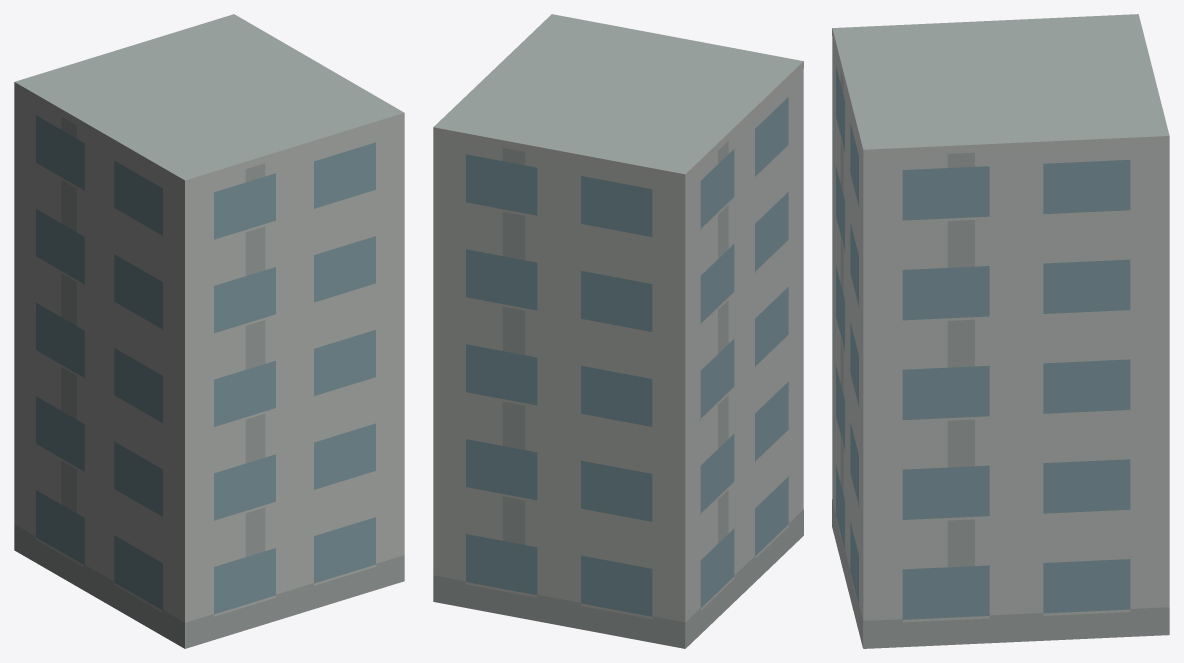
File: residential-2e648b3e-b197-40e9-b336-f9eecdec87f0.glb
The picture shows the model from 3 angles, left to right: view 1: azimuth 30°, elevation 25°; view 2: azimuth 150°, elevation 25°; view 3: azimuth 270°, elevation 25°; orthographic projection. The views are drawn at different scales.
Parts seen in each view (by area): view 1: residential-2e648b3e-b197-40e9-b336-f9eecdec87f0.tmp; view 2: residential-2e648b3e-b197-40e9-b336-f9eecdec87f0.tmp; view 3: residential-2e648b3e-b197-40e9-b336-f9eecdec87f0.tmp.
Boxes of the visible parts, x1,y1,x2,y2 form: residential-2e648b3e-b197-40e9-b336-f9eecdec87f0.tmp: (14, 14, 404, 648); residential-2e648b3e-b197-40e9-b336-f9eecdec87f0.tmp: (433, 14, 803, 648); residential-2e648b3e-b197-40e9-b336-f9eecdec87f0.tmp: (832, 14, 1169, 648).
Size of the model in its own units: 8.9 by 15.25 by 9.35.
